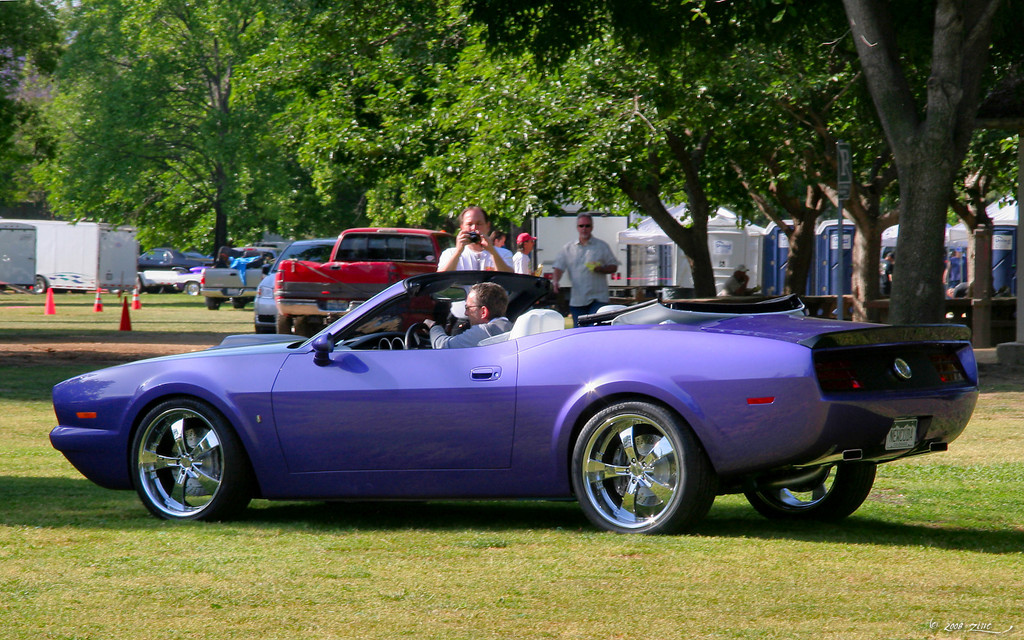cars: (55, 272, 974, 536), (250, 233, 335, 334)
